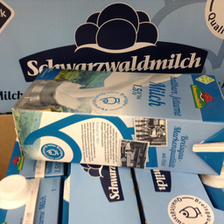milk: (11, 65, 224, 176)
